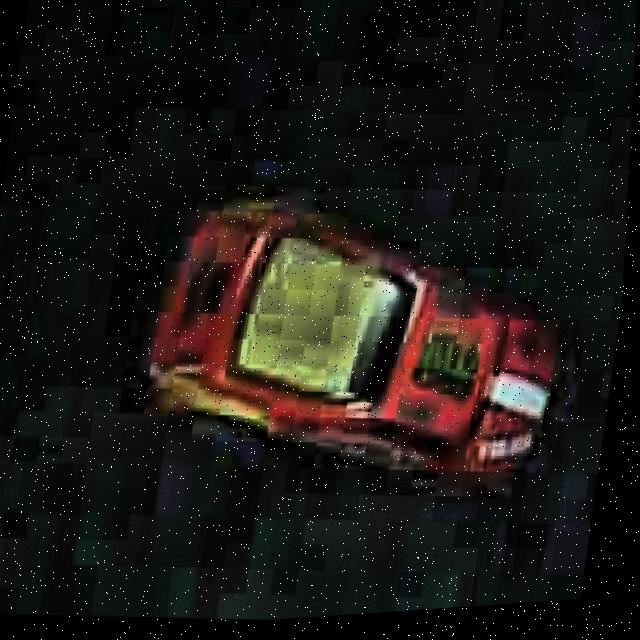car: (107, 156, 595, 524)
